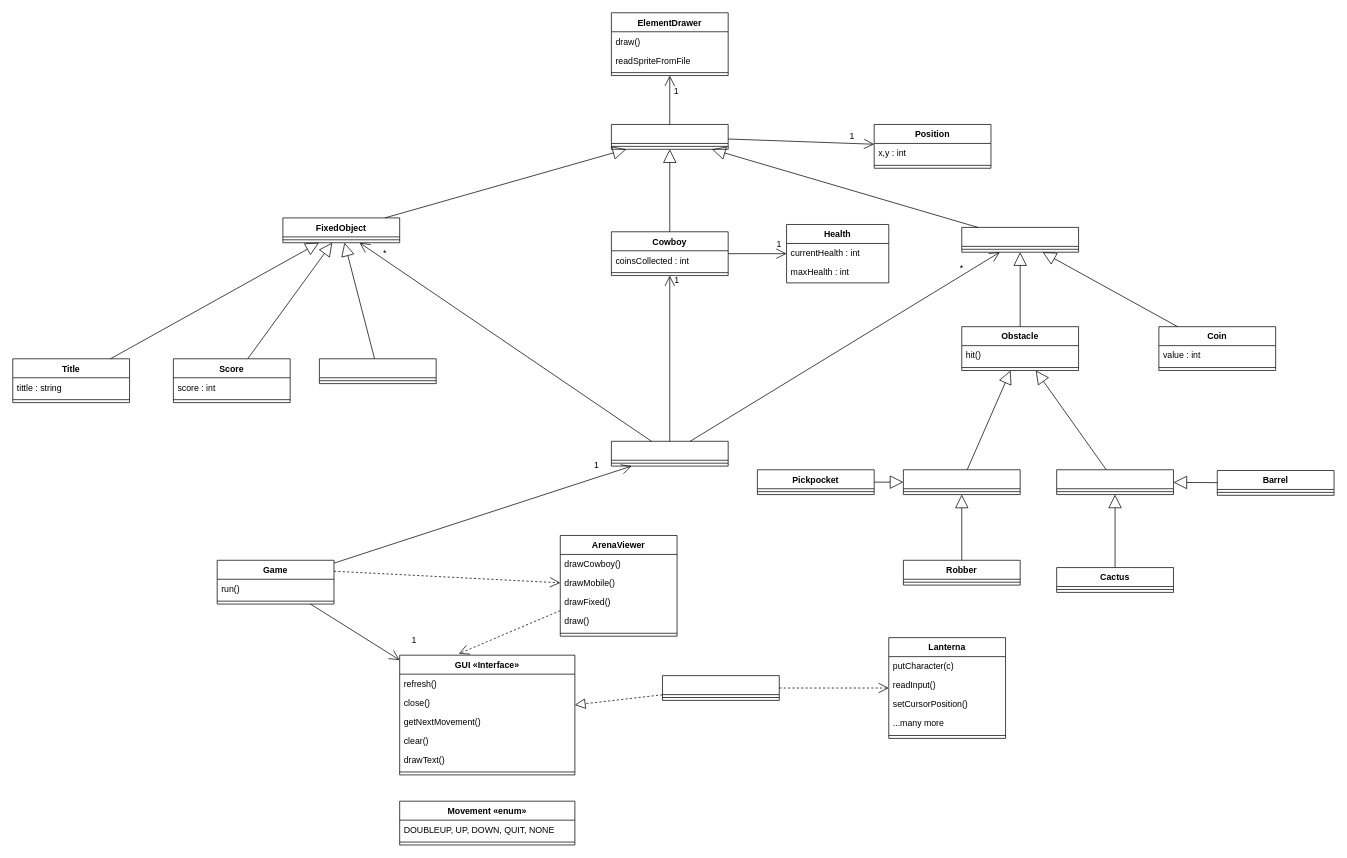
The diagram is 1347 pixels wide and 858 high, and some of its shapes have lost their labels. The shapes that lost their labels are listed below. From the top down, each one's centre as x and y in pixels, then its label:
At [669,136]: "Element".
At [1020,239]: "MobileObject".
At [377,371]: "SunMoon".
At [669,453]: "Arena".
At [961,482]: "Thief".
At [1114,482]: "DangerousObstacle".
At [720,687]: "Lanterna GUI".
